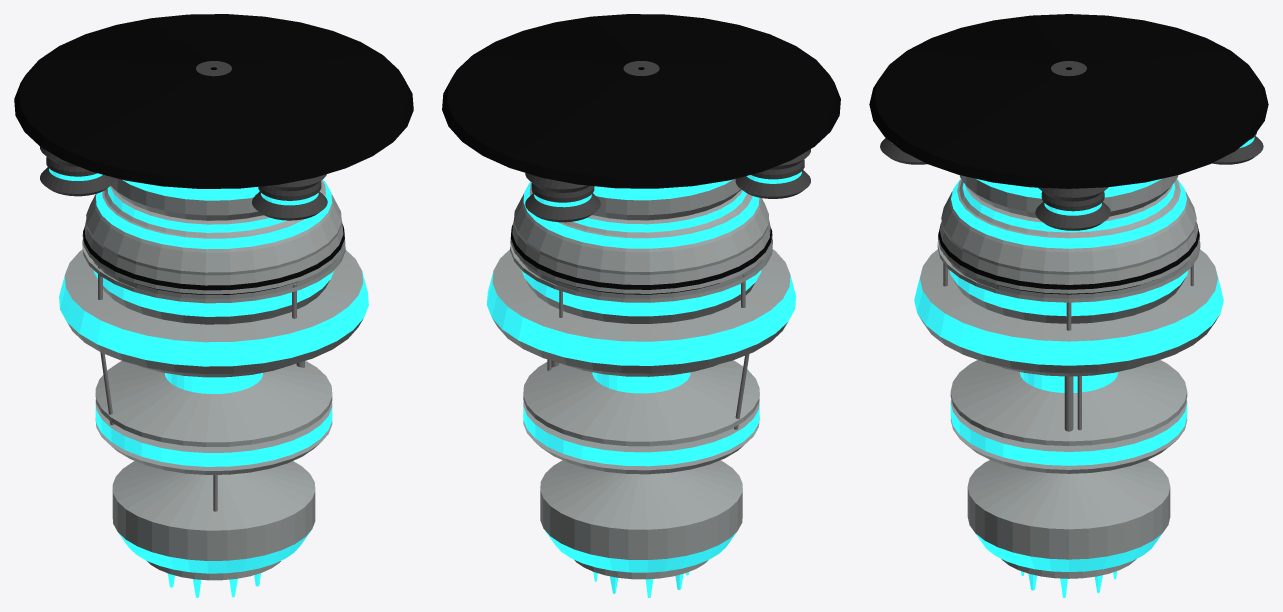
File: Slowzone Device Final.fbx
The picture shows the model from 3 angles, left to right: view 1: azimuth 30°, elevation 25°; view 2: azimuth 150°, elevation 25°; view 3: azimuth 270°, elevation 25°; orthographic projection.
Visible parts, largest first — view 1: Drone; view 2: Drone; view 3: Drone.
Boxes of the visible parts, box(x1,y1,x2,y2) form: Drone: box(14, 14, 413, 597); Drone: box(442, 14, 840, 597); Drone: box(869, 14, 1268, 597).
Size of the model in its own units: 203 by 285 by 203.
